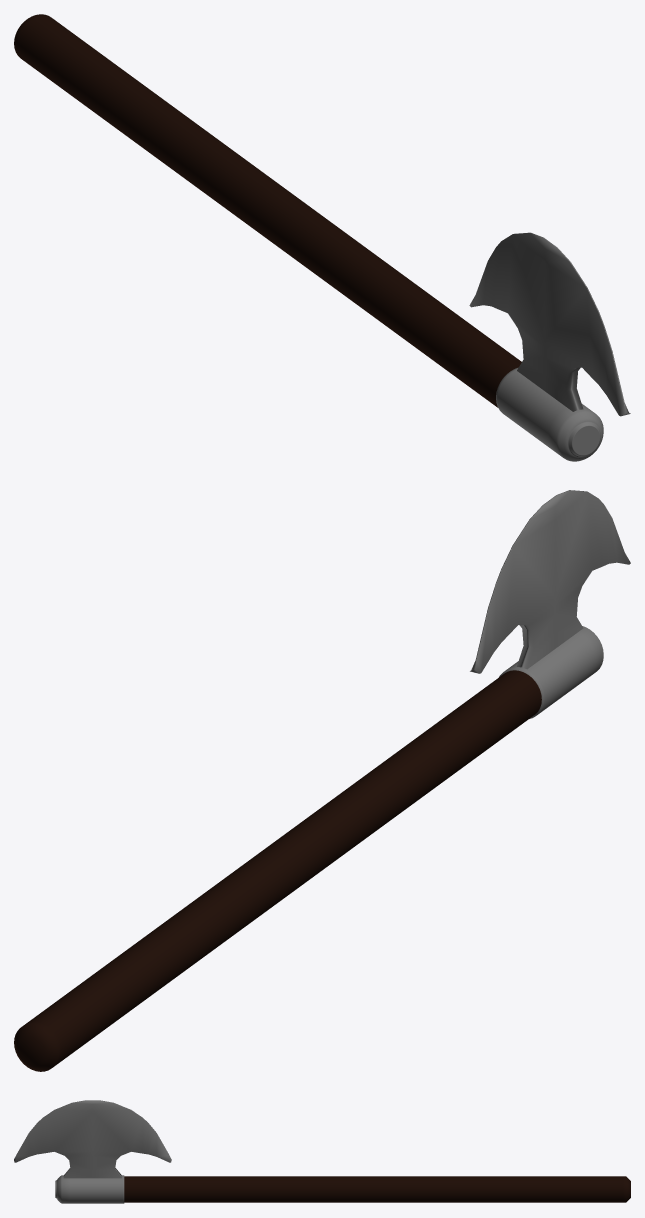
The model's file is axdblhfr2.fbx.
The picture shows the model from 3 angles, top to bottom: view 1: azimuth 30°, elevation 25°; view 2: azimuth 150°, elevation 25°; view 3: azimuth 270°, elevation 25°; orthographic projection. The views are drawn at different scales.
Parts seen in each view (by area): view 1: Cylinder.010, Cube.005, Cylinder.009; view 2: Cylinder.010, Cube.005, Cylinder.009; view 3: Cylinder.010, Cube.005, Cylinder.009.
Part boxes in pixels (x1=…): Cylinder.010: x1=14, y1=14, x2=521, y2=407; Cube.005: x1=469, y1=232, x2=630, y2=416; Cylinder.009: x1=496, y1=367, x2=603, y2=461; Cylinder.010: x1=14, y1=670, x2=541, y2=1071; Cube.005: x1=470, y1=490, x2=630, y2=673; Cylinder.009: x1=499, y1=626, x2=603, y2=718; Cylinder.010: x1=124, y1=1176, x2=630, y2=1202; Cube.005: x1=14, y1=1100, x2=171, y2=1178; Cylinder.009: x1=55, y1=1175, x2=124, y2=1203.
Bounding box in the file's own units: 42.02 × 166 × 911.
